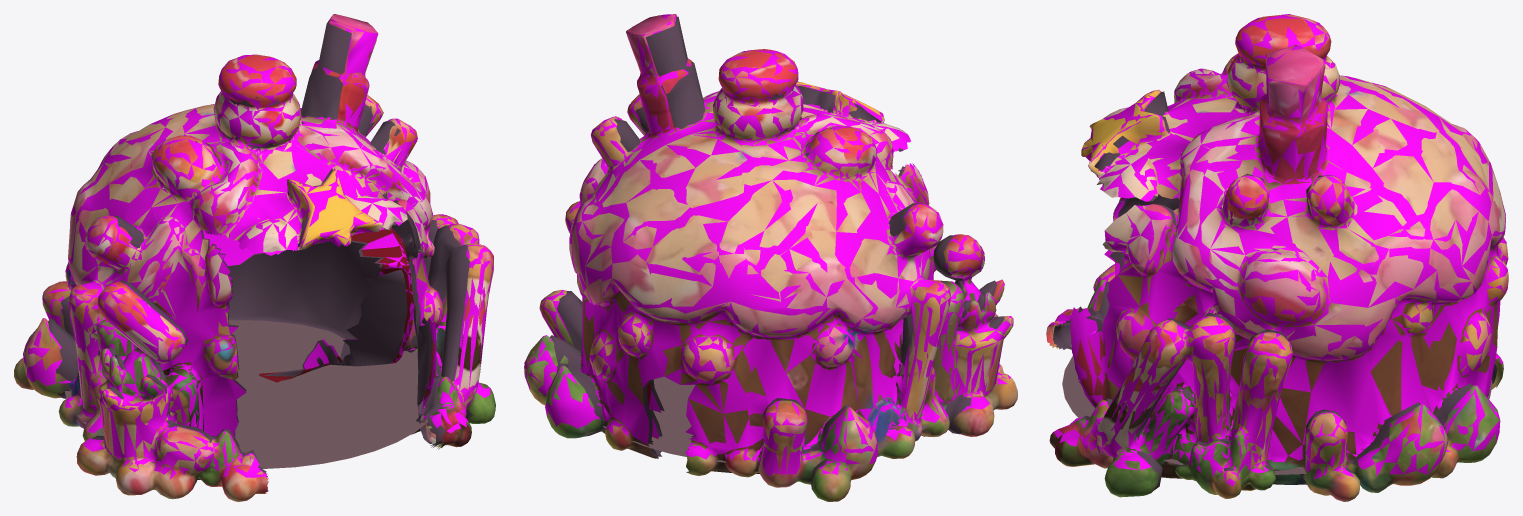
Rendered from CF_MonsterHouse.fbx.
3 views of the same model, side by side, from view 1: azimuth 30°, elevation 25°; view 2: azimuth 150°, elevation 25°; view 3: azimuth 270°, elevation 25° (orthographic). The views are drawn at different scales.
Visible parts, largest first — view 1: Shell, COL_Shell, Inner, Floor; view 2: Shell, COL_Shell, Inner, Floor; view 3: Shell, COL_Shell, Inner, Floor.
Boxes of the visible parts, x1,y1,x2,y2 form: Shell: [14, 14, 495, 501]; COL_Shell: [21, 14, 493, 479]; Inner: [48, 18, 472, 488]; Floor: [65, 320, 428, 468]; Shell: [524, 14, 1017, 501]; COL_Shell: [524, 14, 1013, 476]; Inner: [550, 16, 1004, 491]; Floor: [602, 376, 928, 462]; Shell: [1046, 14, 1508, 501]; COL_Shell: [1048, 14, 1508, 486]; Inner: [1053, 45, 1497, 490]; Floor: [1062, 356, 1492, 474].
Bounding box in the file's own units: 16.02 × 13.93 × 14.27.
